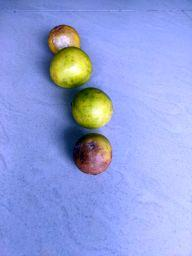lemon: (49, 46, 93, 90), (70, 87, 114, 128), (73, 134, 113, 176), (47, 24, 81, 54)
